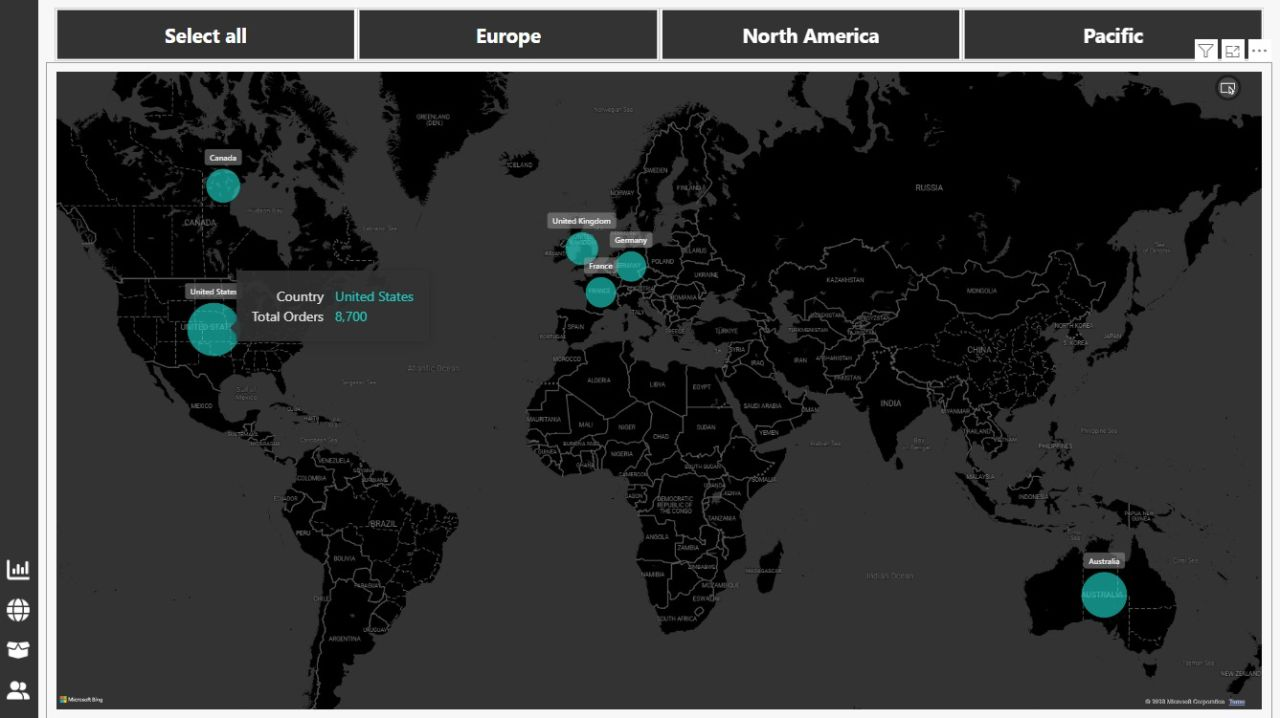

Layout of this report page (visuals, bound fields, positions):
{"tool":"powerbi","page":{"name":"Map","canvas":[1920,1080],"ordinal":1},"visuals":[{"type":"shape","box":[0,0,60,1080],"z":0},{"type":"actionButton","box":[0,1005,60,60],"z":0,"group":"g1"},{"type":"slicer","fields":{"Values":["Territory Lookup.Continent"]},"box":[63.8,14.3,1843.3,82.9],"z":1000},{"type":"actionButton","box":[0,945,60,60],"z":1000,"group":"g1"},{"type":"group","id":"g1","title":"Group 1","box":[0,825,60,240],"z":2000},{"type":"actionButton","box":[0,885,60,60],"z":2000,"group":"g1"},{"type":"map","fields":{"Category":["Territory Lookup.Country"],"Size":["Measures Table.Total Orders"]},"box":[70.9,97.3,1830,982.7],"z":3000},{"type":"actionButton","box":[0,825,60,60],"z":3000,"group":"g1"}]}

Visuals, with their boxes on the page's 1920x1080 design canvas (x1, y1, x2, y2). These are canvas units, not pixel positions in the 1280x718 screenshot, which may show the page scaled, cropped or inside an application window:
shape: [0,0,60,1080]
actionButton: [0,1005,60,1065]
slicer - Territory Lookup.Continent: [64,14,1907,97]
actionButton: [0,945,60,1005]
"Group 1" group: [0,825,60,1065]
actionButton: [0,885,60,945]
map - Territory Lookup.Country x Measures Table.Total Orders: [71,97,1901,1080]
actionButton: [0,825,60,885]
